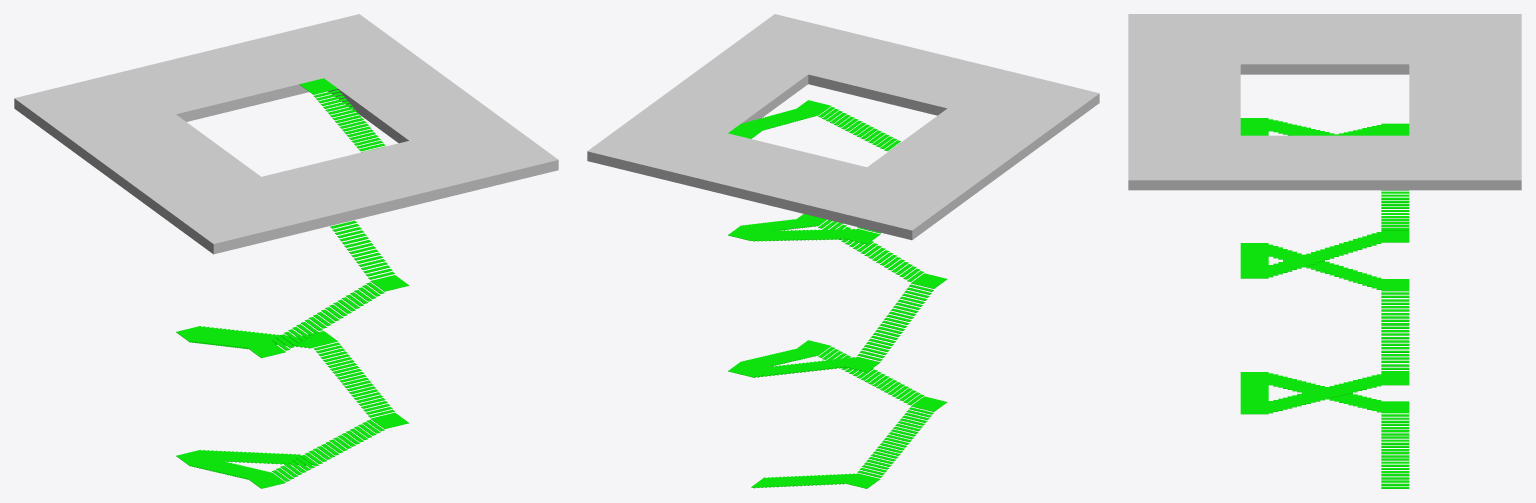
The picture shows the model from 3 angles, left to right: view 1: azimuth 30°, elevation 25°; view 2: azimuth 150°, elevation 25°; view 3: azimuth 270°, elevation 25°; orthographic projection. The views are drawn at different scales.
Parts seen in each view (by area): view 1: Merged Objects 6.001, Object_6; view 2: Merged Objects 6.001, Object_6; view 3: Merged Objects 6.001, Object_6.
Boxes of the visible parts, x1,y1,x2,y2 form: Merged Objects 6.001: (14, 14, 558, 254); Object_6: (176, 78, 408, 488); Merged Objects 6.001: (587, 14, 1099, 240); Object_6: (728, 100, 947, 488); Merged Objects 6.001: (1128, 14, 1521, 190); Object_6: (1240, 118, 1409, 488).
Size of the model in its own units: 42 by 43.03 by 42.
